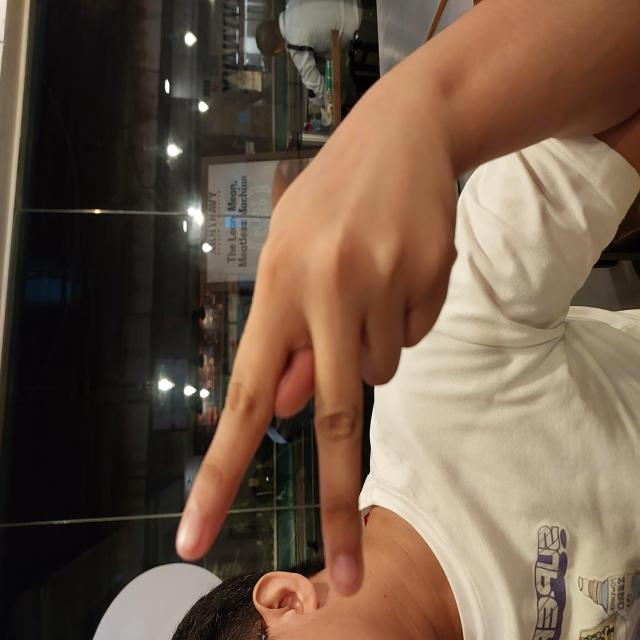K: (40, 174, 518, 459)
